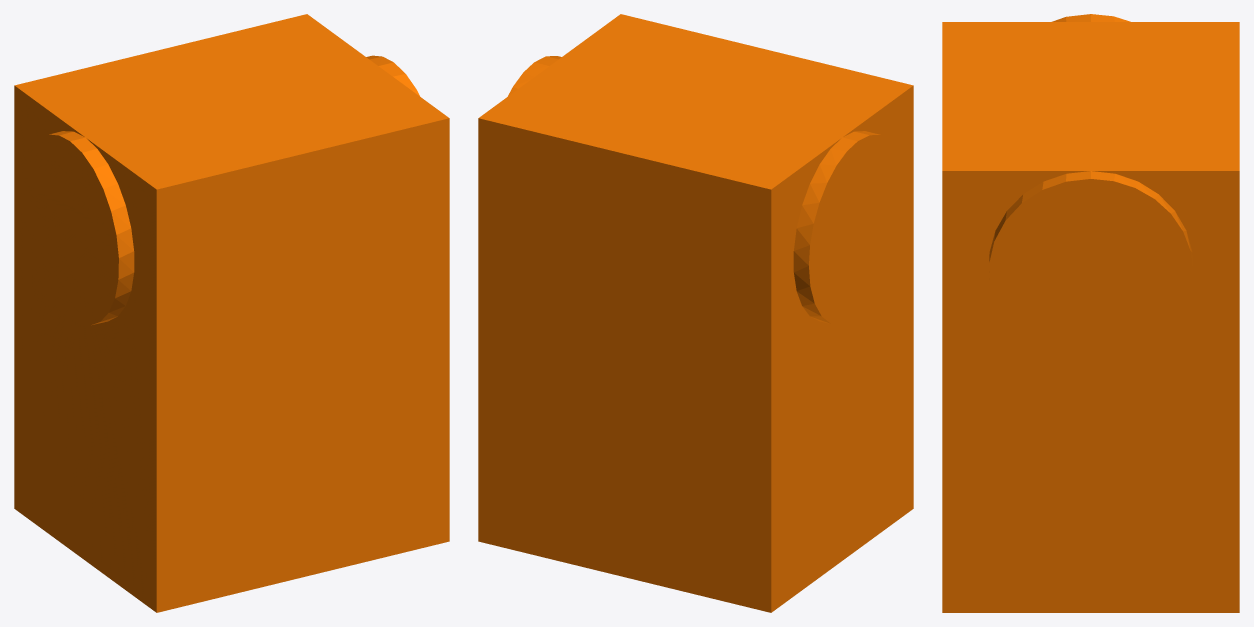
Rendered from simple_shoulder.dae.
3 views of the same model, side by side, from view 1: azimuth 30°, elevation 25°; view 2: azimuth 150°, elevation 25°; view 3: azimuth 270°, elevation 25° (orthographic). The views are drawn at different scales.
Parts seen in each view (by area): view 1: node0; view 2: node0; view 3: node0.
Boxes of the visible parts, box(x1,y1,x2,y2) form: node0: box(14, 14, 449, 612); node0: box(478, 14, 913, 612); node0: box(942, 14, 1239, 612).
Size of the model in its own units: 0.042 by 0.032 by 0.0525.
